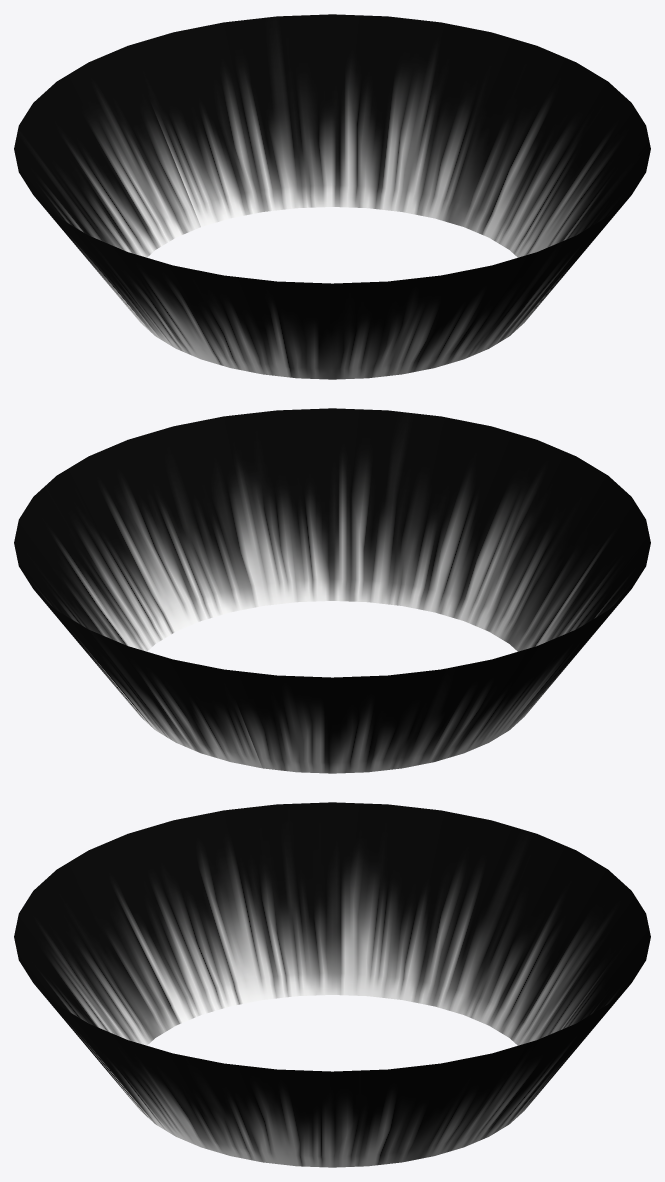
File: eff_shock_cone1.FBX
3 views of the same model, one above another, from view 1: azimuth 30°, elevation 25°; view 2: azimuth 150°, elevation 25°; view 3: azimuth 270°, elevation 25° (orthographic).
Parts seen in each view (by area): view 1: cone1; view 2: cone1; view 3: cone1.
Part boxes in pixels (bbox=[...]): cone1: bbox=[14, 14, 650, 379]; cone1: bbox=[14, 408, 650, 773]; cone1: bbox=[14, 802, 650, 1167].
Bounding box in the file's own units: 400 × 400 × 100.
